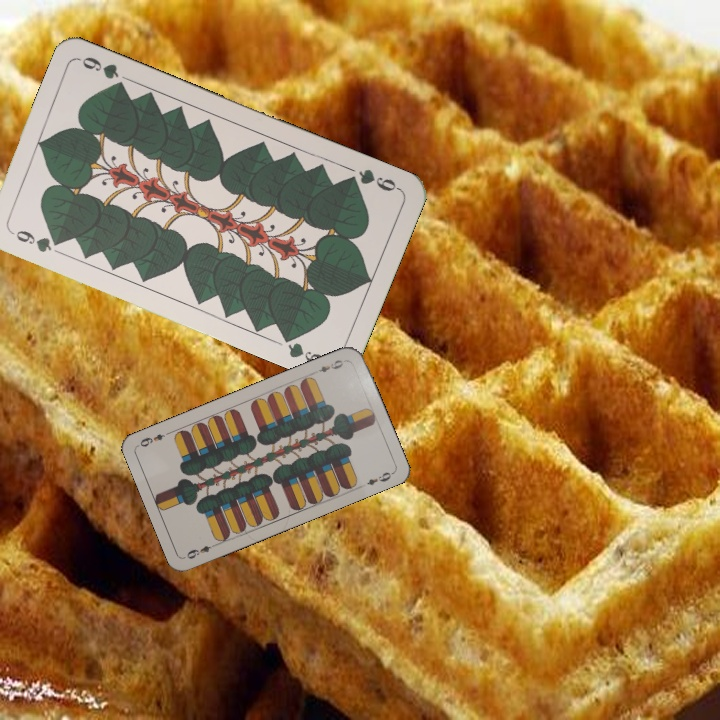E9: (182, 539, 220, 562), (314, 355, 349, 375)
G9: (342, 165, 402, 194), (7, 226, 65, 255)
